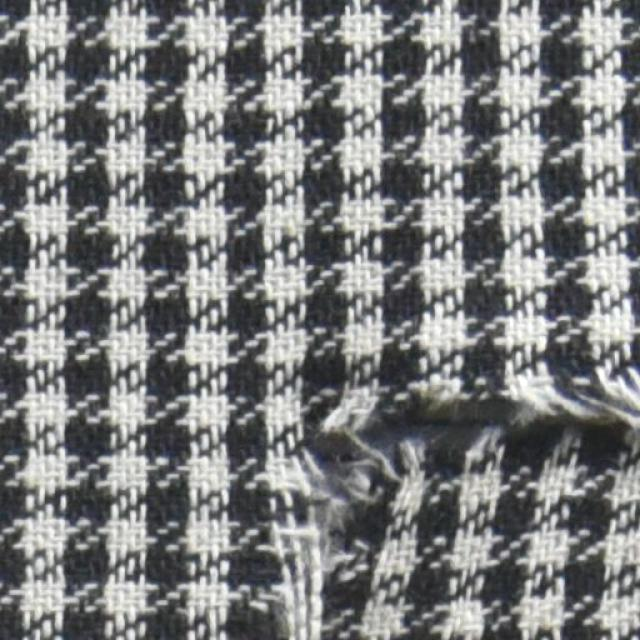Hole: (308, 400, 495, 549)
Snag: (313, 337, 639, 486), (256, 447, 380, 639)
